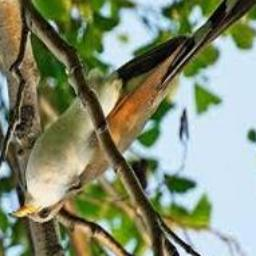Cuckoo: (9, 0, 256, 222)
